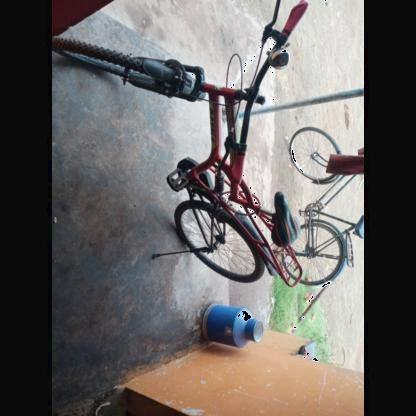Bicycle: (53, 0, 304, 310), (283, 121, 362, 304)
